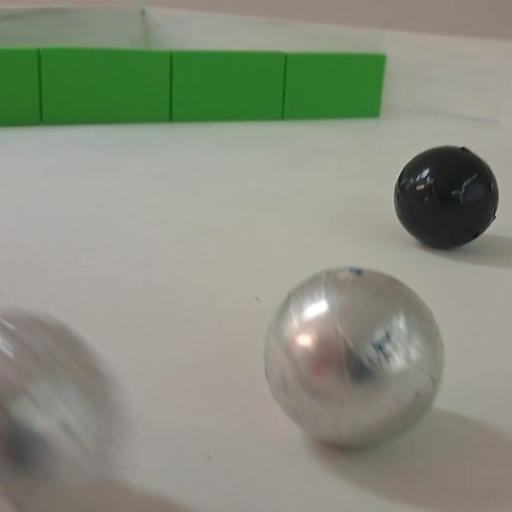alive: (264, 264, 448, 452), (1, 306, 125, 506)
dead: (392, 145, 497, 250)
